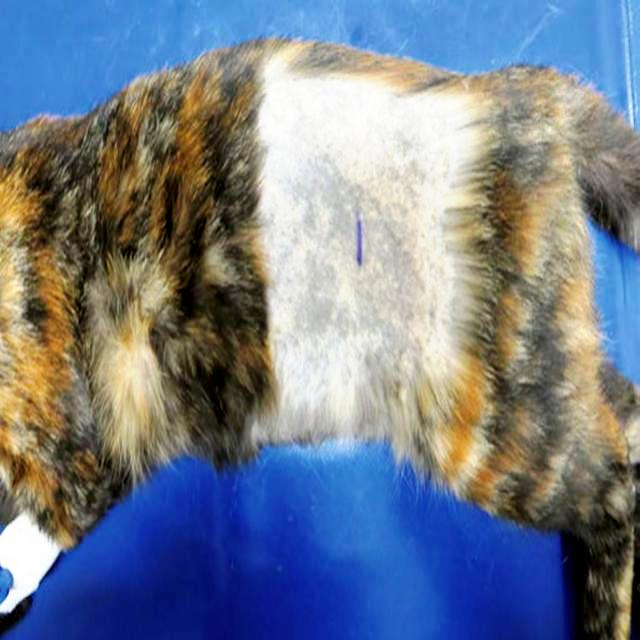hairloss: (255, 85, 456, 446)
